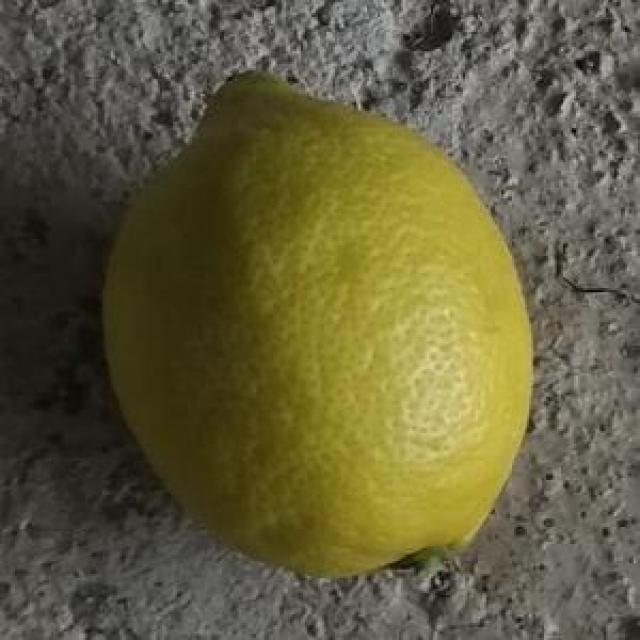lemon: (105, 68, 532, 585)
